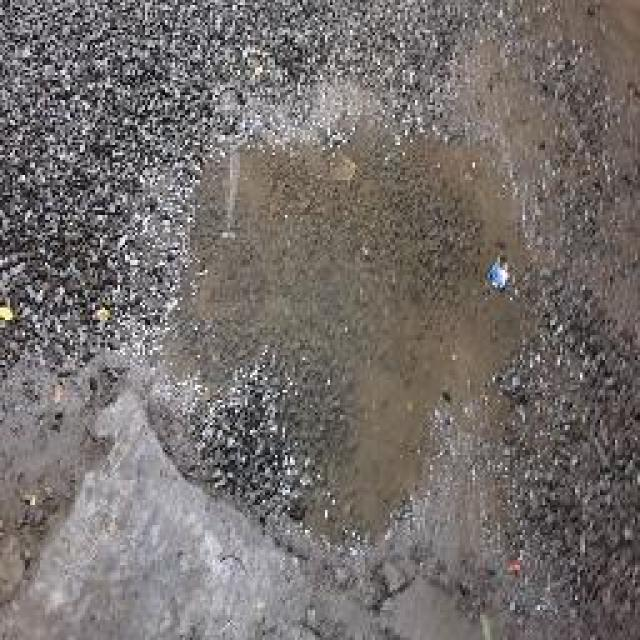stagnation: (101, 103, 558, 574)
